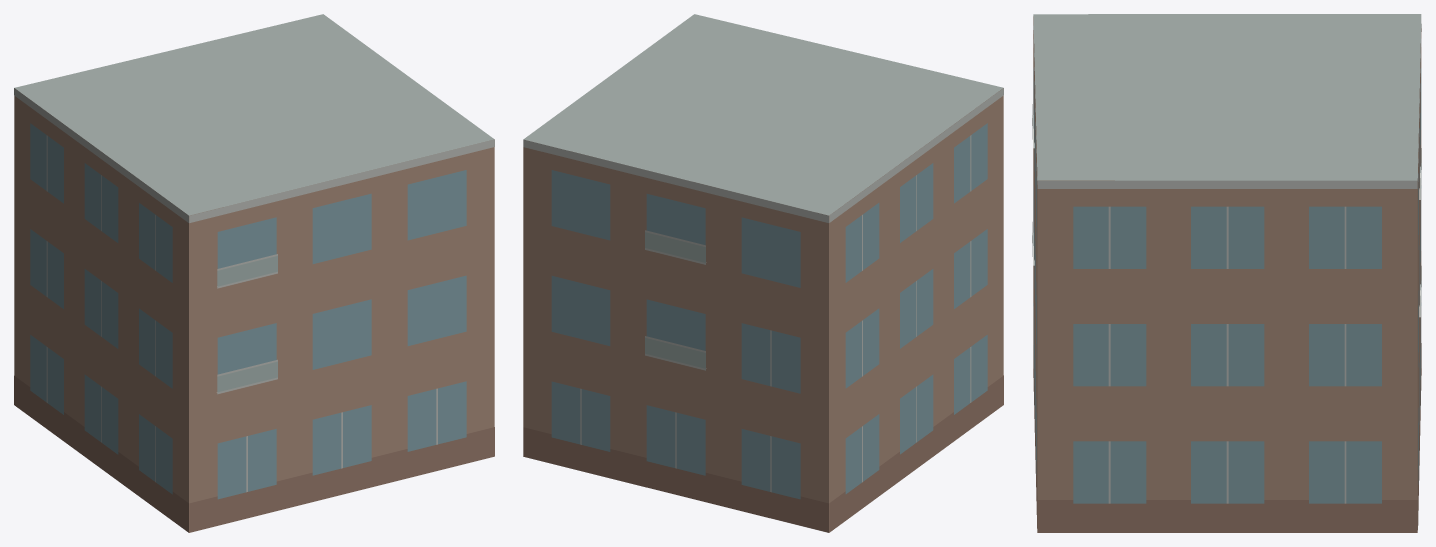
File: survey-upis-32783007.glb
3 renders of one model, left to right at view 1: azimuth 30°, elevation 25°; view 2: azimuth 150°, elevation 25°; view 3: azimuth 270°, elevation 25°, orthographic. The views are drawn at different scales.
Parts seen in each view (by area): view 1: survey-upis-32783007.tmp; view 2: survey-upis-32783007.tmp; view 3: survey-upis-32783007.tmp.
Part boxes in pixels (bbox=[...]): survey-upis-32783007.tmp: bbox=[14, 14, 494, 532]; survey-upis-32783007.tmp: bbox=[523, 14, 1003, 532]; survey-upis-32783007.tmp: bbox=[1032, 14, 1421, 532].
Size of the model in its own units: 10.37 by 10.2 by 10.22.
